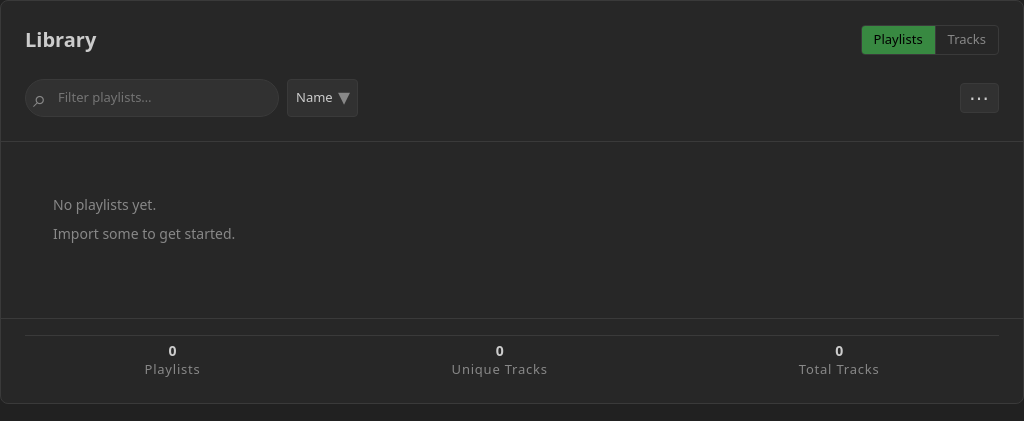
Test: LibraryCard › renders track title and artist rows in tracks view
Click the button "Tracks".
click(966, 40)  # box [935,26,998,54]
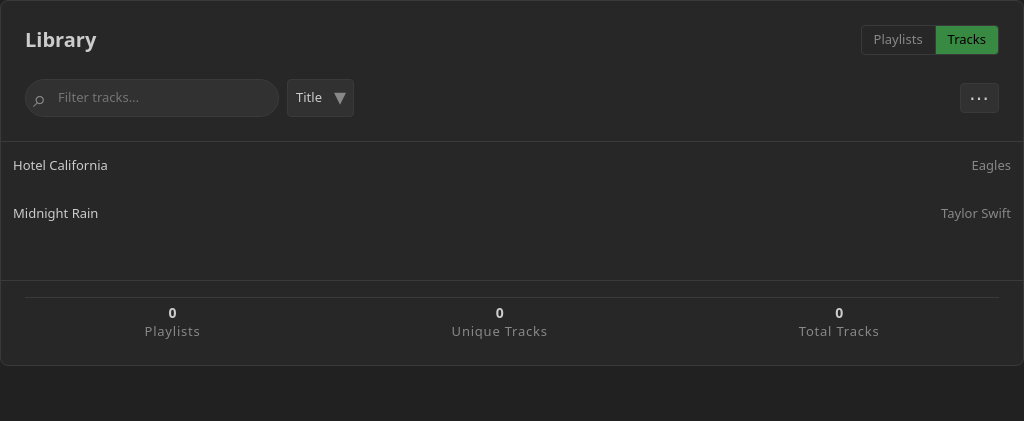
Expected: the text "Midnight Rain" is shown, [13,204,98,222]
Expected: the text "Taylor Swift" is shown, [937,204,1011,223]
Expected: the text "Hotel California" is shown, [13,156,108,174]
